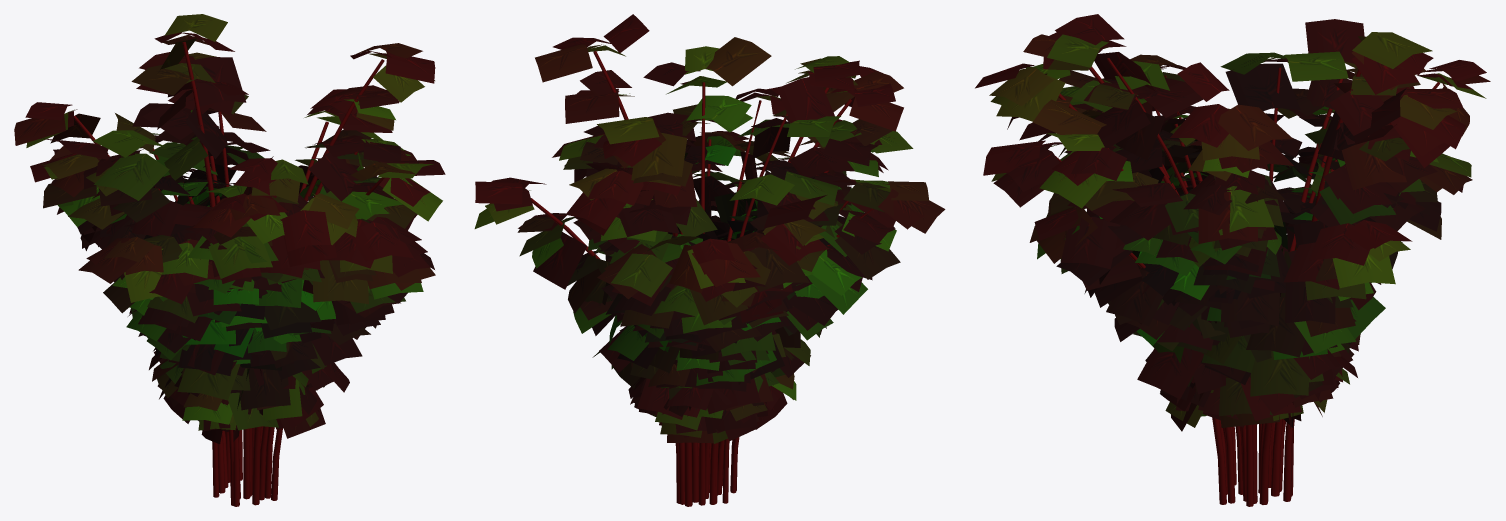
File: veg_bamboo2.glb
The picture shows the model from 3 angles, left to right: view 1: azimuth 30°, elevation 25°; view 2: azimuth 150°, elevation 25°; view 3: azimuth 270°, elevation 25°; orthographic projection. The views are drawn at different scales.
Visible parts, largest first — view 1: bamboo_2; view 2: bamboo_2; view 3: bamboo_2.
Part boxes in pixels (x1,y1,x2,y2): bamboo_2: (14,14,445,506); bamboo_2: (474,14,945,506); bamboo_2: (975,14,1490,506).
Size of the model in its own units: 9.28 by 10.3 by 10.03.
Materials: 2 (1 with a texture image).
